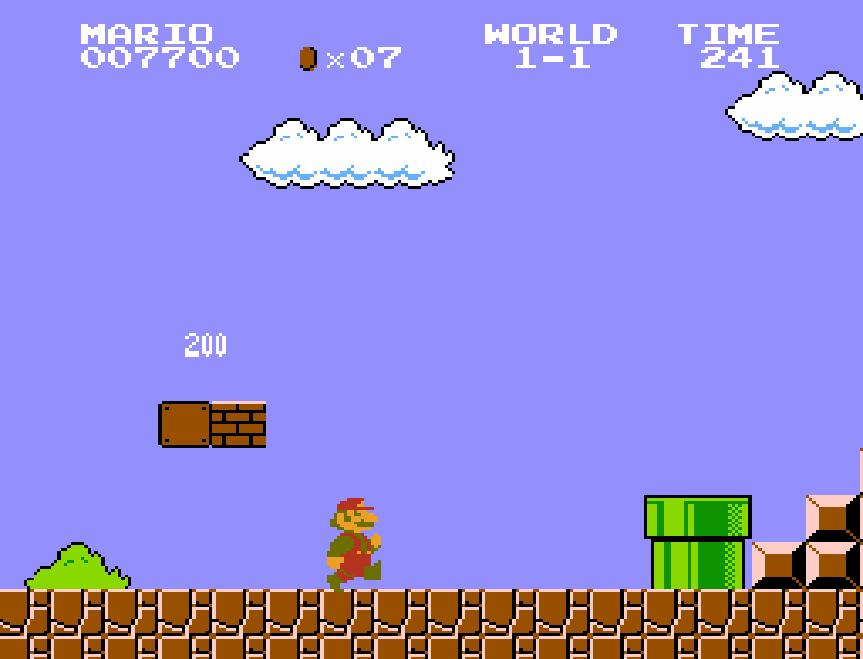big_mario: (324, 496, 382, 594)
